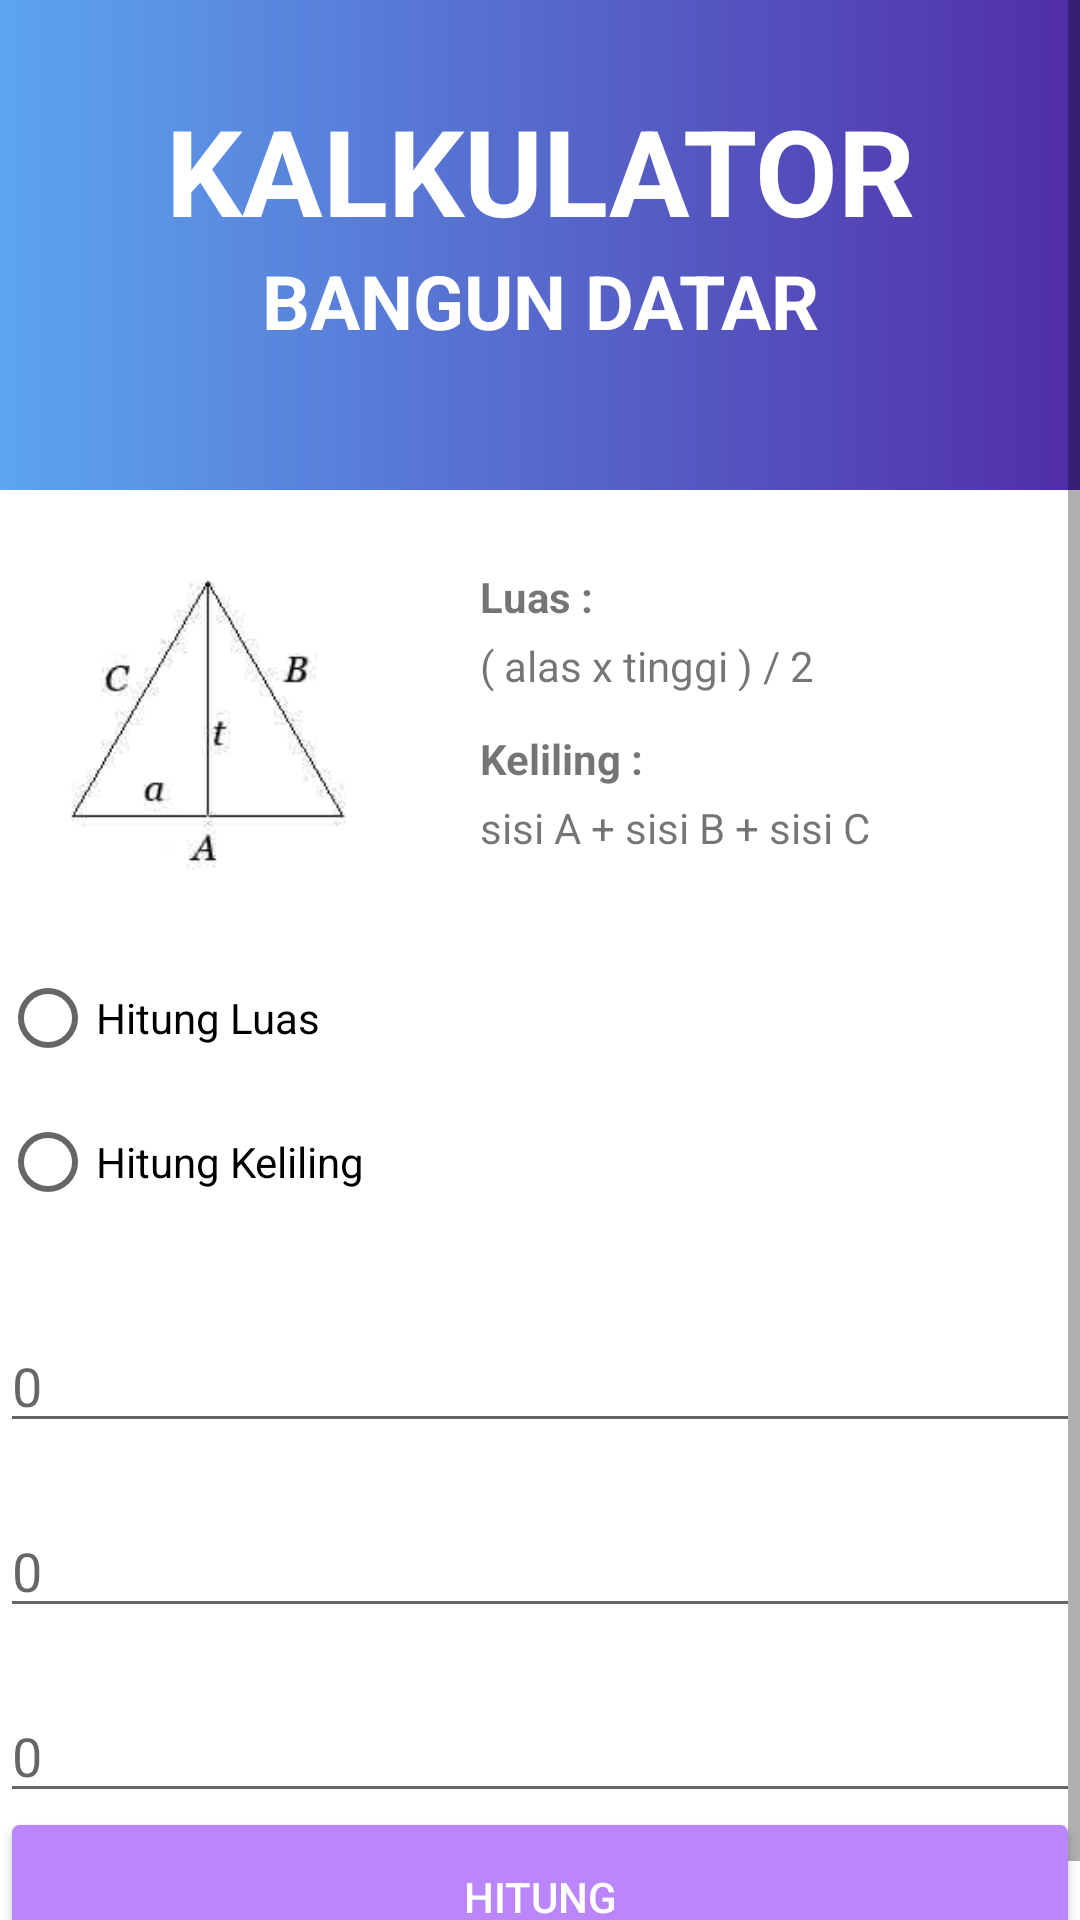

Named icons in this screenshot (1080x1920) and their bounding boxes, rect(x1, y1, x2, y2):
ksegitiga: rect(71, 581, 346, 862)
